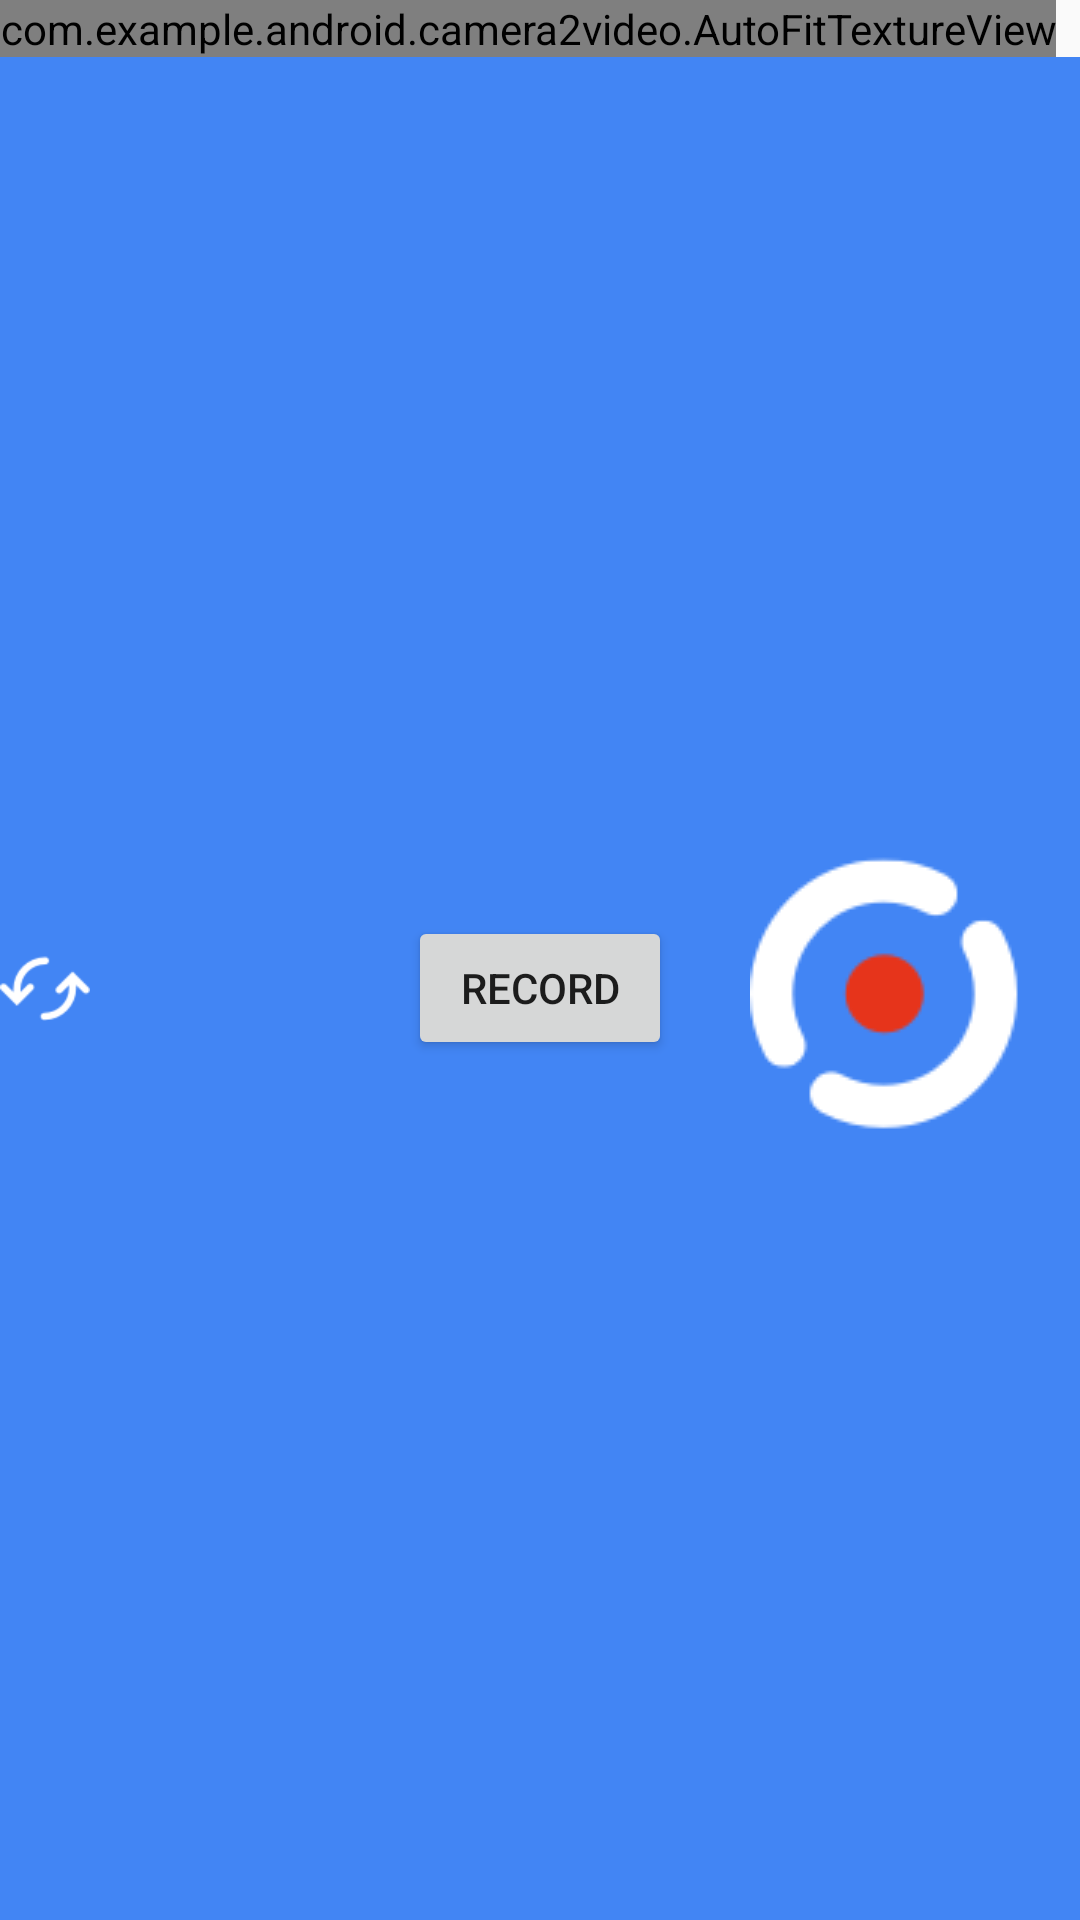

Where to tap for icons on this 1080x1920 app screen, as (x=x, y=y):
switch camera: (x=45, y=988)
